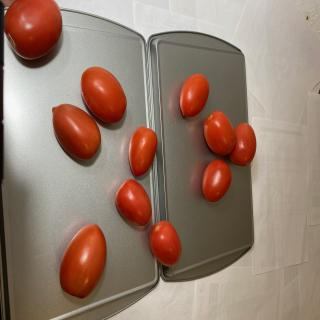Tomato: (59, 224, 107, 299), (4, 0, 63, 60), (52, 103, 101, 160), (80, 66, 127, 123), (115, 179, 152, 226), (149, 220, 182, 267), (128, 126, 158, 177), (203, 110, 235, 155), (180, 74, 210, 117), (202, 159, 232, 202), (229, 122, 257, 166)
